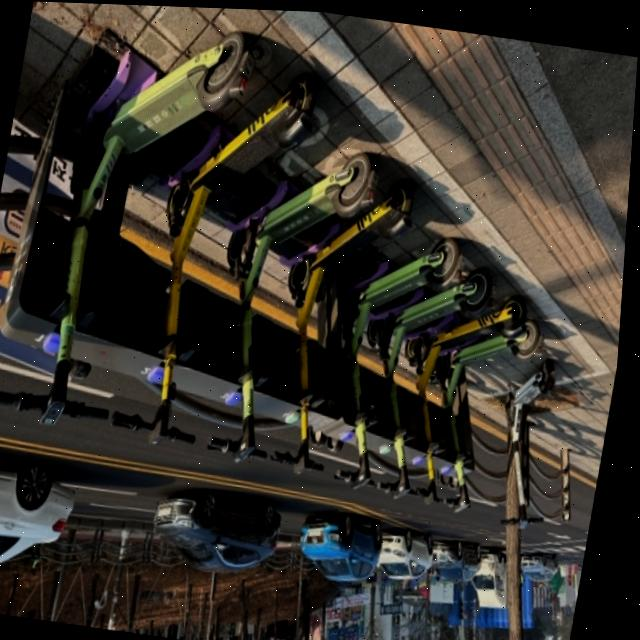kickboard_ok: (72, 3, 258, 168), (256, 130, 373, 258), (495, 348, 578, 434)
